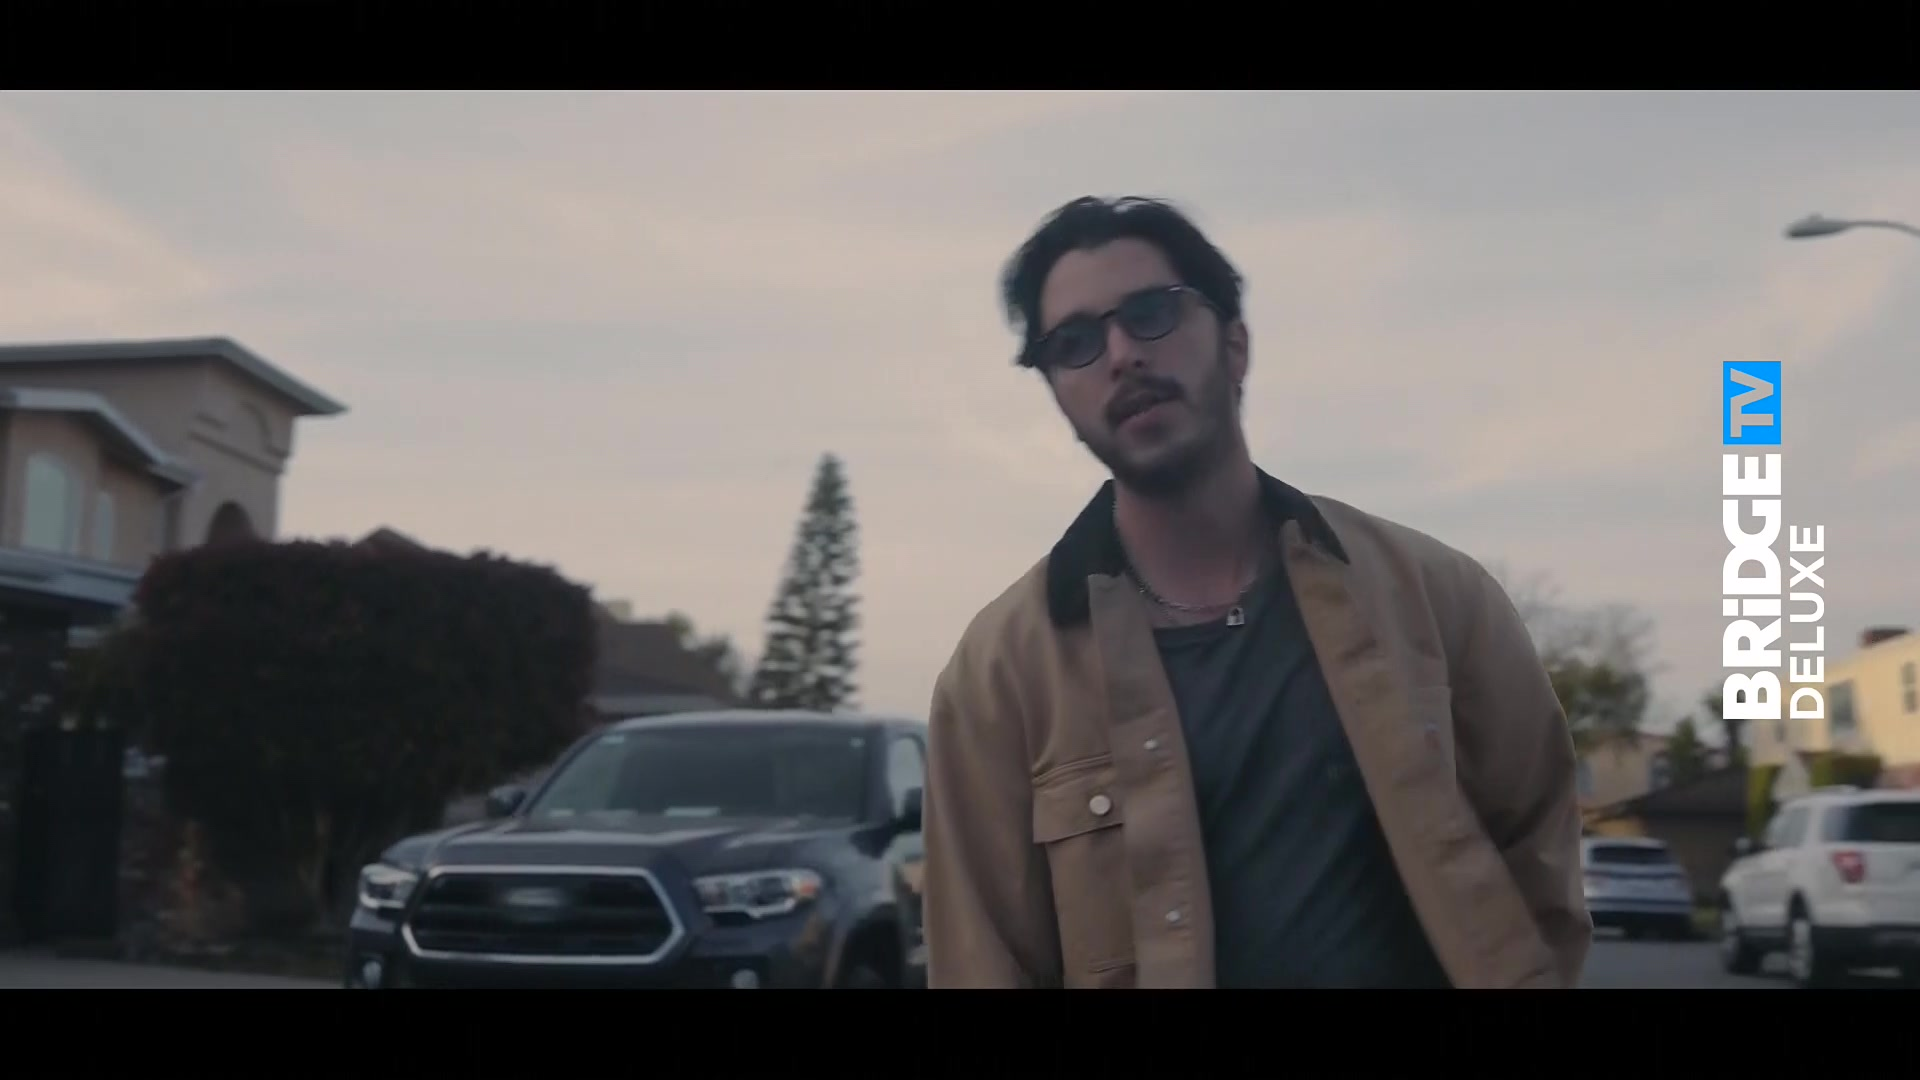Bridge_TV_Deluxe: (1716, 353, 1830, 728)
